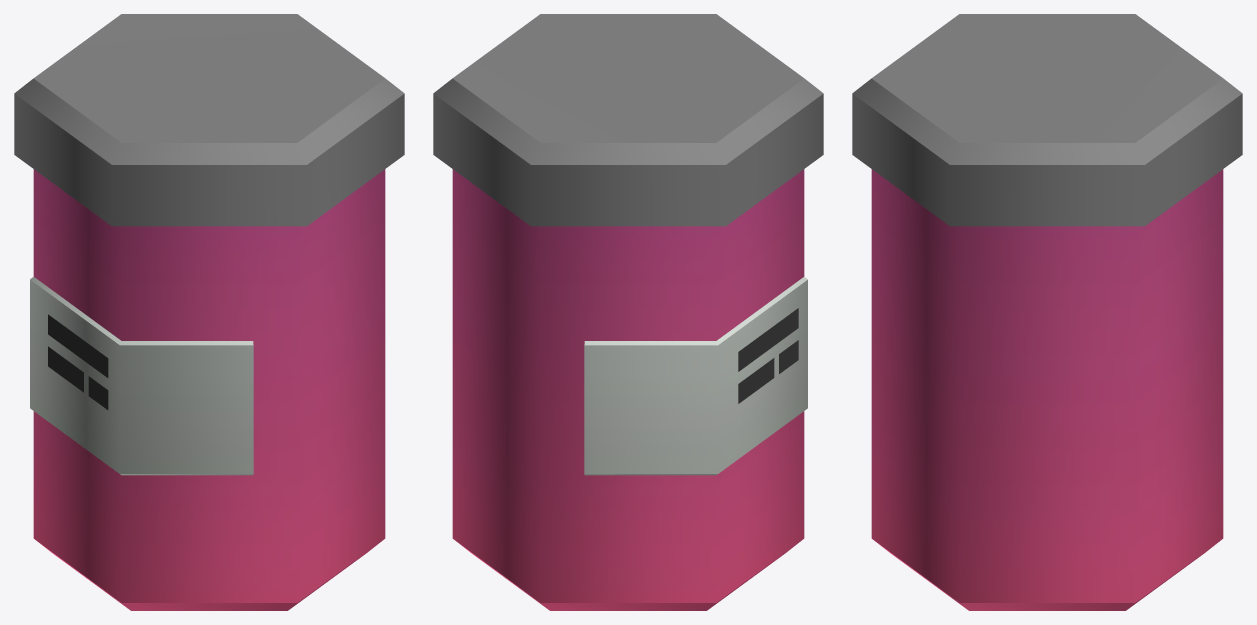
The model's file is Jar_3_J.fbx.
The picture shows the model from 3 angles, left to right: view 1: azimuth 30°, elevation 25°; view 2: azimuth 150°, elevation 25°; view 3: azimuth 270°, elevation 25°; orthographic projection.
Parts seen in each view (by area): view 1: Jar_3_J; view 2: Jar_3_J; view 3: Jar_3_J.
Part boxes in pixels (x1,y1,x2,y2): Jar_3_J: [14, 14, 404, 610]; Jar_3_J: [433, 14, 823, 610]; Jar_3_J: [852, 14, 1242, 610].
Bounding box in the file's own units: 17.99 × 27.9 × 20.77.
